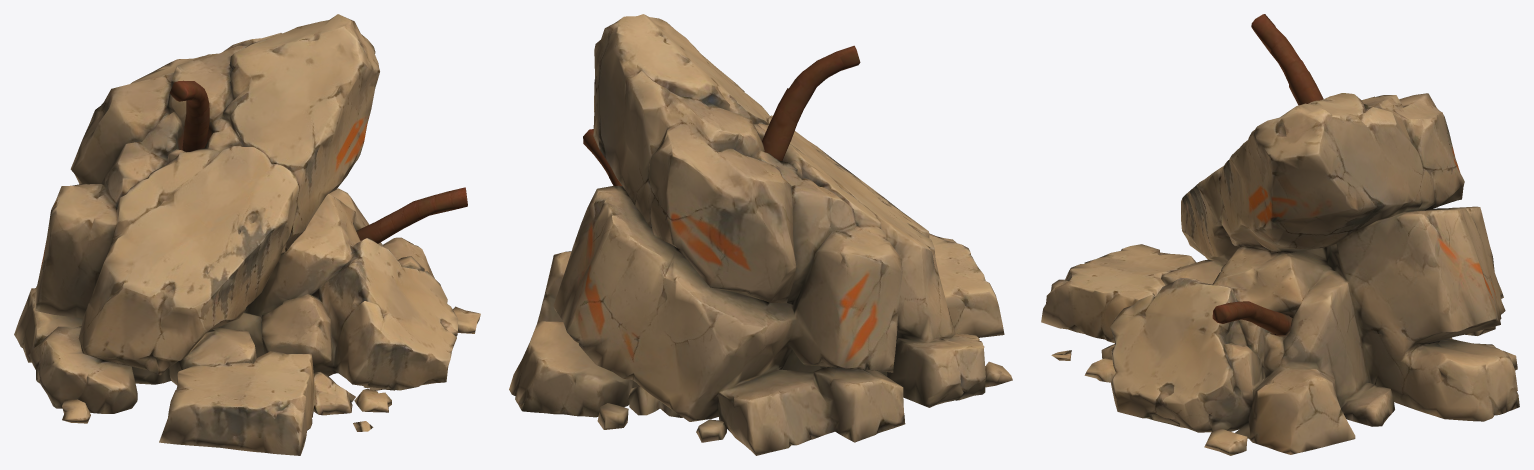
File: tripo_convert_3105baa2-ac73-46d0-94a0-3346eb6047bc.glb
3 renders of one model, left to right at view 1: azimuth 30°, elevation 25°; view 2: azimuth 150°, elevation 25°; view 3: azimuth 270°, elevation 25°, orthographic. The views are drawn at different scales.
Parts seen in each view (by area): view 1: tripo_node_3105baa2-ac73-46d0-94a0-3346eb6047bc; view 2: tripo_node_3105baa2-ac73-46d0-94a0-3346eb6047bc; view 3: tripo_node_3105baa2-ac73-46d0-94a0-3346eb6047bc.
Part boxes in pixels (<box>): tripo_node_3105baa2-ac73-46d0-94a0-3346eb6047bc: <box>14,14,480,455</box>; tripo_node_3105baa2-ac73-46d0-94a0-3346eb6047bc: <box>509,14,1012,455</box>; tripo_node_3105baa2-ac73-46d0-94a0-3346eb6047bc: <box>1041,14,1519,455</box>.
Bounding box in the file's own units: 1 × 0.6821 × 0.9778.
1 material, 1 textured.
